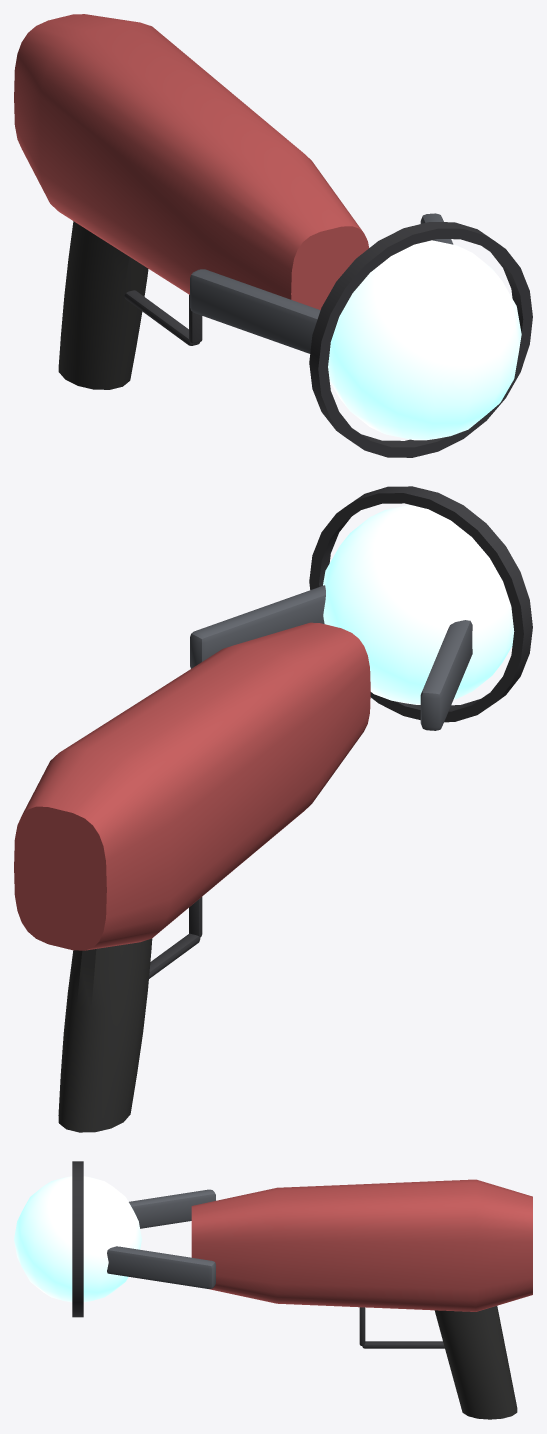
File: finaldays.glb
The picture shows the model from 3 angles, top to bottom: view 1: azimuth 30°, elevation 25°; view 2: azimuth 150°, elevation 25°; view 3: azimuth 270°, elevation 25°; orthographic projection. The views are drawn at different scales.
Visible parts, largest first — view 1: Body; view 2: Body; view 3: Body.
Boxes of the visible parts, bbox=[...] form: Body: bbox=[14, 14, 532, 457]; Body: bbox=[14, 486, 532, 1132]; Body: bbox=[14, 1161, 532, 1419].
Size of the model in its own units: 0.1284 by 0.1875 by 0.365.
